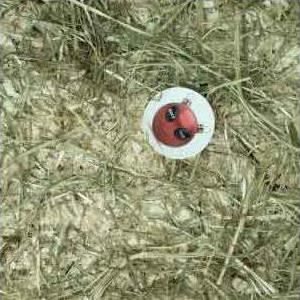badge: (143, 87, 215, 160)
